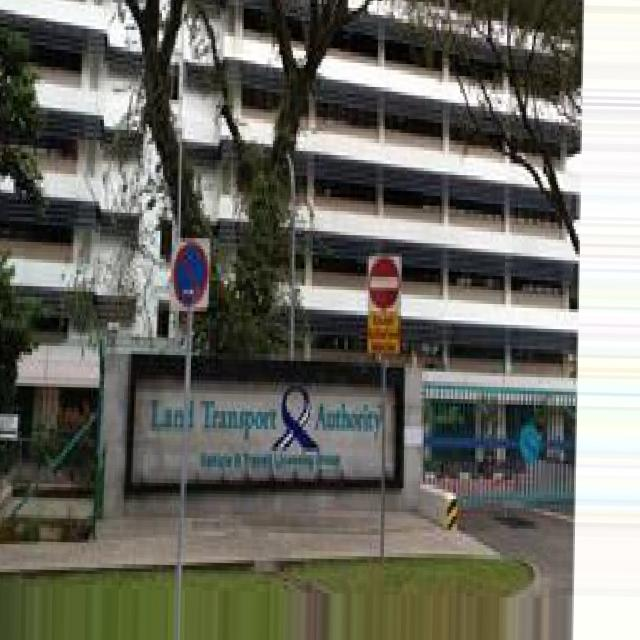forb_stopping: (174, 243, 207, 306)
